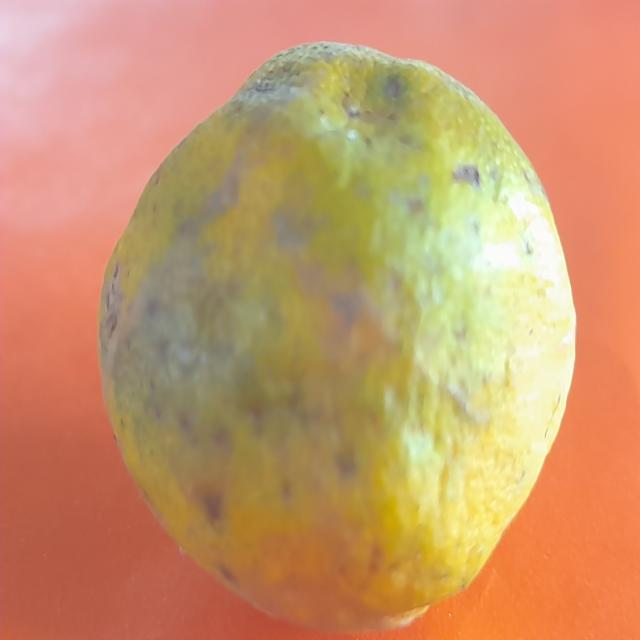black spot: (76, 32, 588, 640)
